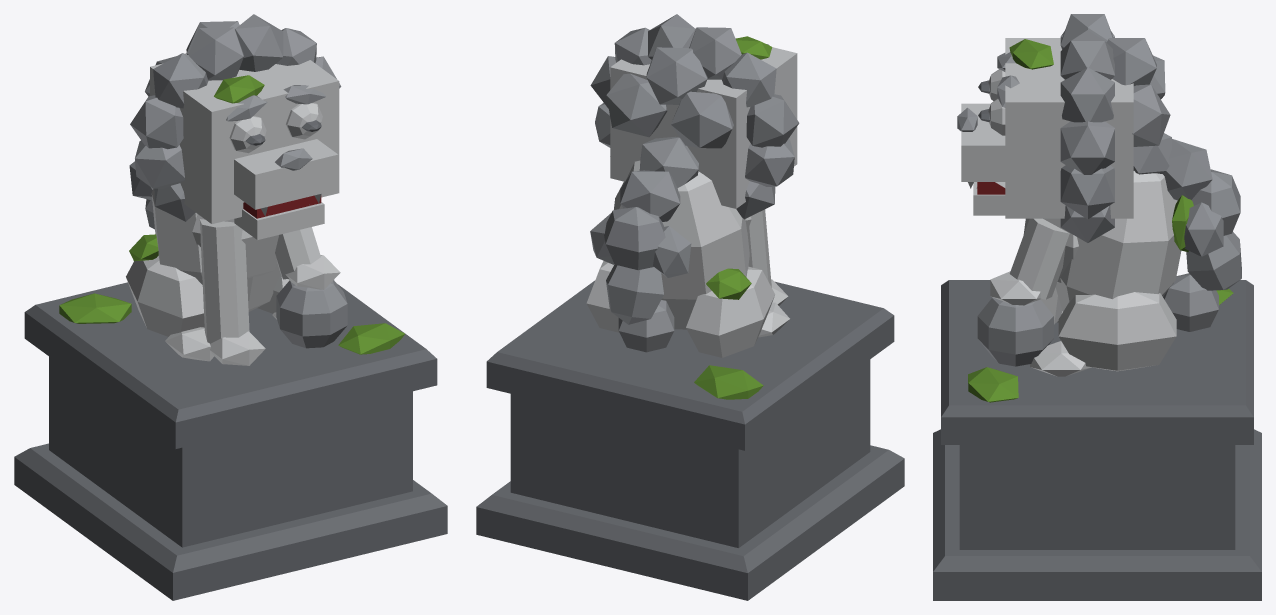
File: komainu.glb
3 views of the same model, side by side, from view 1: azimuth 30°, elevation 25°; view 2: azimuth 150°, elevation 25°; view 3: azimuth 270°, elevation 25° (orthographic). The views are drawn at different scales.
Visible parts, largest first — view 1: Base, Statue, Mane, Moss, Mouth; view 2: Base, Mane, Statue, Moss; view 3: Base, Statue, Mane, Moss.
Boxes of the visible parts, <box> form: Base: <box>14,120,447,600</box>; Statue: <box>126,60,340,365</box>; Mane: <box>129,14,347,348</box>; Moss: <box>59,75,404,354</box>; Mouth: <box>243,195,321,218</box>; Base: <box>476,280,904,600</box>; Mane: <box>590,14,799,352</box>; Statue: <box>586,28,797,357</box>; Moss: <box>694,36,772,399</box>; Base: <box>933,80,1261,600</box>; Statue: <box>961,38,1181,376</box>; Mane: <box>957,14,1241,366</box>; Moss: <box>968,39,1233,402</box>.
Size of the model in its own units: 4.1 by 6.93 by 4.1.
